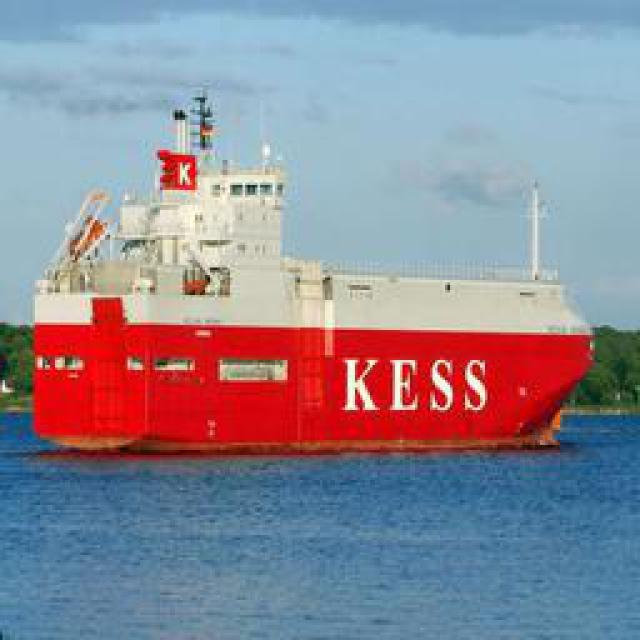Ship: (30, 82, 593, 450)
